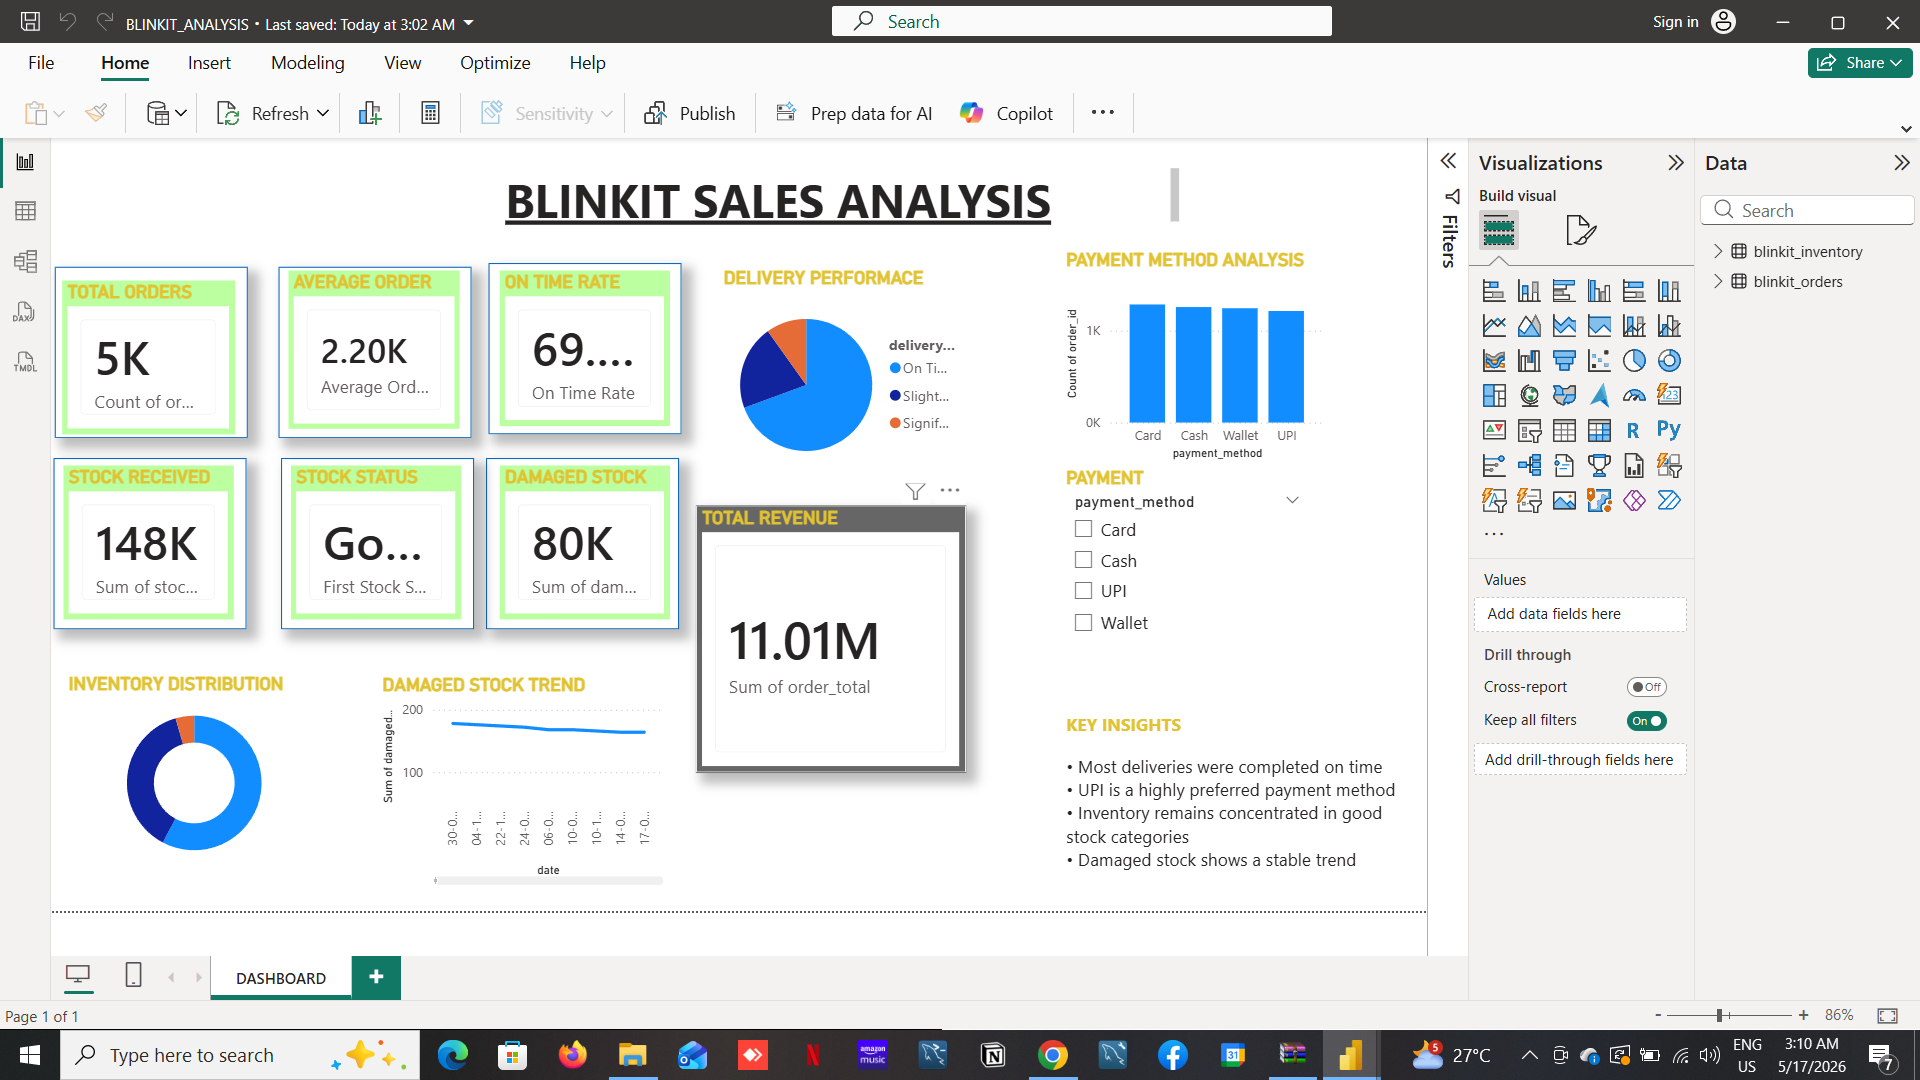

What the dashboard file says about the page in this screenshot:
{"tool":"powerbi","page":{"name":"DASHBOARD","canvas":[1280,720],"ordinal":0},"visuals":[{"type":"cardVisual","title":"TOTAL ORDERS","fields":{"Data":["CountNonNull(blinkit_orders.order_id)"]},"box":[10.8,132.3,160.7,143.2],"z":0},{"type":"cardVisual","title":"TOTAL REVENUE","fields":{"Data":["Sum(blinkit_orders.order_total)"]},"box":[599.6,341.7,251.2,248.5],"z":1000},{"type":"cardVisual","title":"STOCK RECEIVED","fields":{"Data":["Sum(blinkit_inventory.stock_received)"]},"box":[12.2,305.2,158,143.2],"z":2000},{"type":"pieChart","title":"DELIVERY PERFORMACE","fields":{"Category":["blinkit_orders.delivery_status"],"Y":["CountNonNull(blinkit_orders.order_id)"]},"box":[621.2,120.2,229.6,201.2],"z":3000},{"type":"columnChart","title":"PAYMENT METHOD ANALYSIS","fields":{"Y":["CountNonNull(blinkit_orders.order_id)"],"Category":["blinkit_orders.payment_method"]},"box":[939.9,104,249.8,201.2],"z":4000},{"type":"lineChart","title":"DAMAGED STOCK TREND","fields":{"Category":["blinkit_inventory.date"],"Y":["Sum(blinkit_inventory.damaged_stock)"]},"box":[303.9,498.3,271.5,201.2],"z":5000},{"type":"donutChart","title":"INVENTORY DISTRIBUTION","fields":{"Category":["blinkit_inventory.Stock Status"],"Y":["CountNonNull(blinkit_inventory.stock_received)"]},"box":[12.1,498.1,243.7,185.8],"z":6000},{"type":"slicer","title":"PAYMENT","fields":{"Values":["blinkit_orders.payment_method"]},"box":[939.7,305.6,234.2,207.3],"z":7000},{"type":"textbox","box":[417.2,23.3,636.7,63.1],"z":8000},{"type":"cardVisual","title":"DAMAGED STOCK","fields":{"Data":["Sum(blinkit_inventory.damaged_stock)"]},"box":[417.3,305.2,158,143.2],"z":9000},{"type":"cardVisual","title":"ON TIME RATE","fields":{"Data":["blinkit_inventory.On Time Rate"]},"box":[417.3,122.9,158,144.5],"z":10000},{"type":"cardVisual","title":"AVERAGE ORDER","fields":{"Data":["blinkit_inventory.Average Order Value"]},"box":[221.5,122.9,159.4,147.2],"z":11000},{"type":"cardVisual","title":"STOCK STATUS","fields":{"Data":["Min(blinkit_inventory.Stock Status)"]},"box":[222.8,305.2,158,143.2],"z":12000},{"type":"textbox","box":[939.7,529.1,324.4,169.6],"z":13000},{"type":"shape","box":[2.7,297.1,179.6,159.4],"z":14000},{"type":"shape","box":[4.1,120.2,179.6,159.4],"z":15000},{"type":"shape","box":[405.2,297.1,179.6,159.4],"z":16000},{"type":"shape","box":[212,120.2,179.6,159.4],"z":17000},{"type":"shape","box":[406.5,116.1,179.6,159.4],"z":18000},{"type":"shape","box":[213.4,297.1,179.6,159.4],"z":19000}]}

Visuals, with their boxes on the page's 1280x720 design canvas (x1, y1, x2, y2). These are canvas units, not pixel positions in the 1920x1080 screenshot, which may show the page scaled, cropped or inside an application window:
"TOTAL ORDERS" cardVisual: [x1=11, y1=132, x2=172, y2=276]
"TOTAL REVENUE" cardVisual: [x1=600, y1=342, x2=851, y2=590]
"STOCK RECEIVED" cardVisual: [x1=12, y1=305, x2=170, y2=448]
"DELIVERY PERFORMACE" pieChart: [x1=621, y1=120, x2=851, y2=321]
"PAYMENT METHOD ANALYSIS" columnChart: [x1=940, y1=104, x2=1190, y2=305]
"DAMAGED STOCK TREND" lineChart: [x1=304, y1=498, x2=575, y2=700]
"INVENTORY DISTRIBUTION" donutChart: [x1=12, y1=498, x2=256, y2=684]
"PAYMENT" slicer: [x1=940, y1=306, x2=1174, y2=513]
textbox: [x1=417, y1=23, x2=1054, y2=86]
"DAMAGED STOCK" cardVisual: [x1=417, y1=305, x2=575, y2=448]
"ON TIME RATE" cardVisual: [x1=417, y1=123, x2=575, y2=267]
"AVERAGE ORDER" cardVisual: [x1=222, y1=123, x2=381, y2=270]
"STOCK STATUS" cardVisual: [x1=223, y1=305, x2=381, y2=448]
textbox: [x1=940, y1=529, x2=1264, y2=699]
shape: [x1=3, y1=297, x2=182, y2=456]
shape: [x1=4, y1=120, x2=184, y2=280]
shape: [x1=405, y1=297, x2=585, y2=456]
shape: [x1=212, y1=120, x2=392, y2=280]
shape: [x1=406, y1=116, x2=586, y2=276]
shape: [x1=213, y1=297, x2=393, y2=456]
